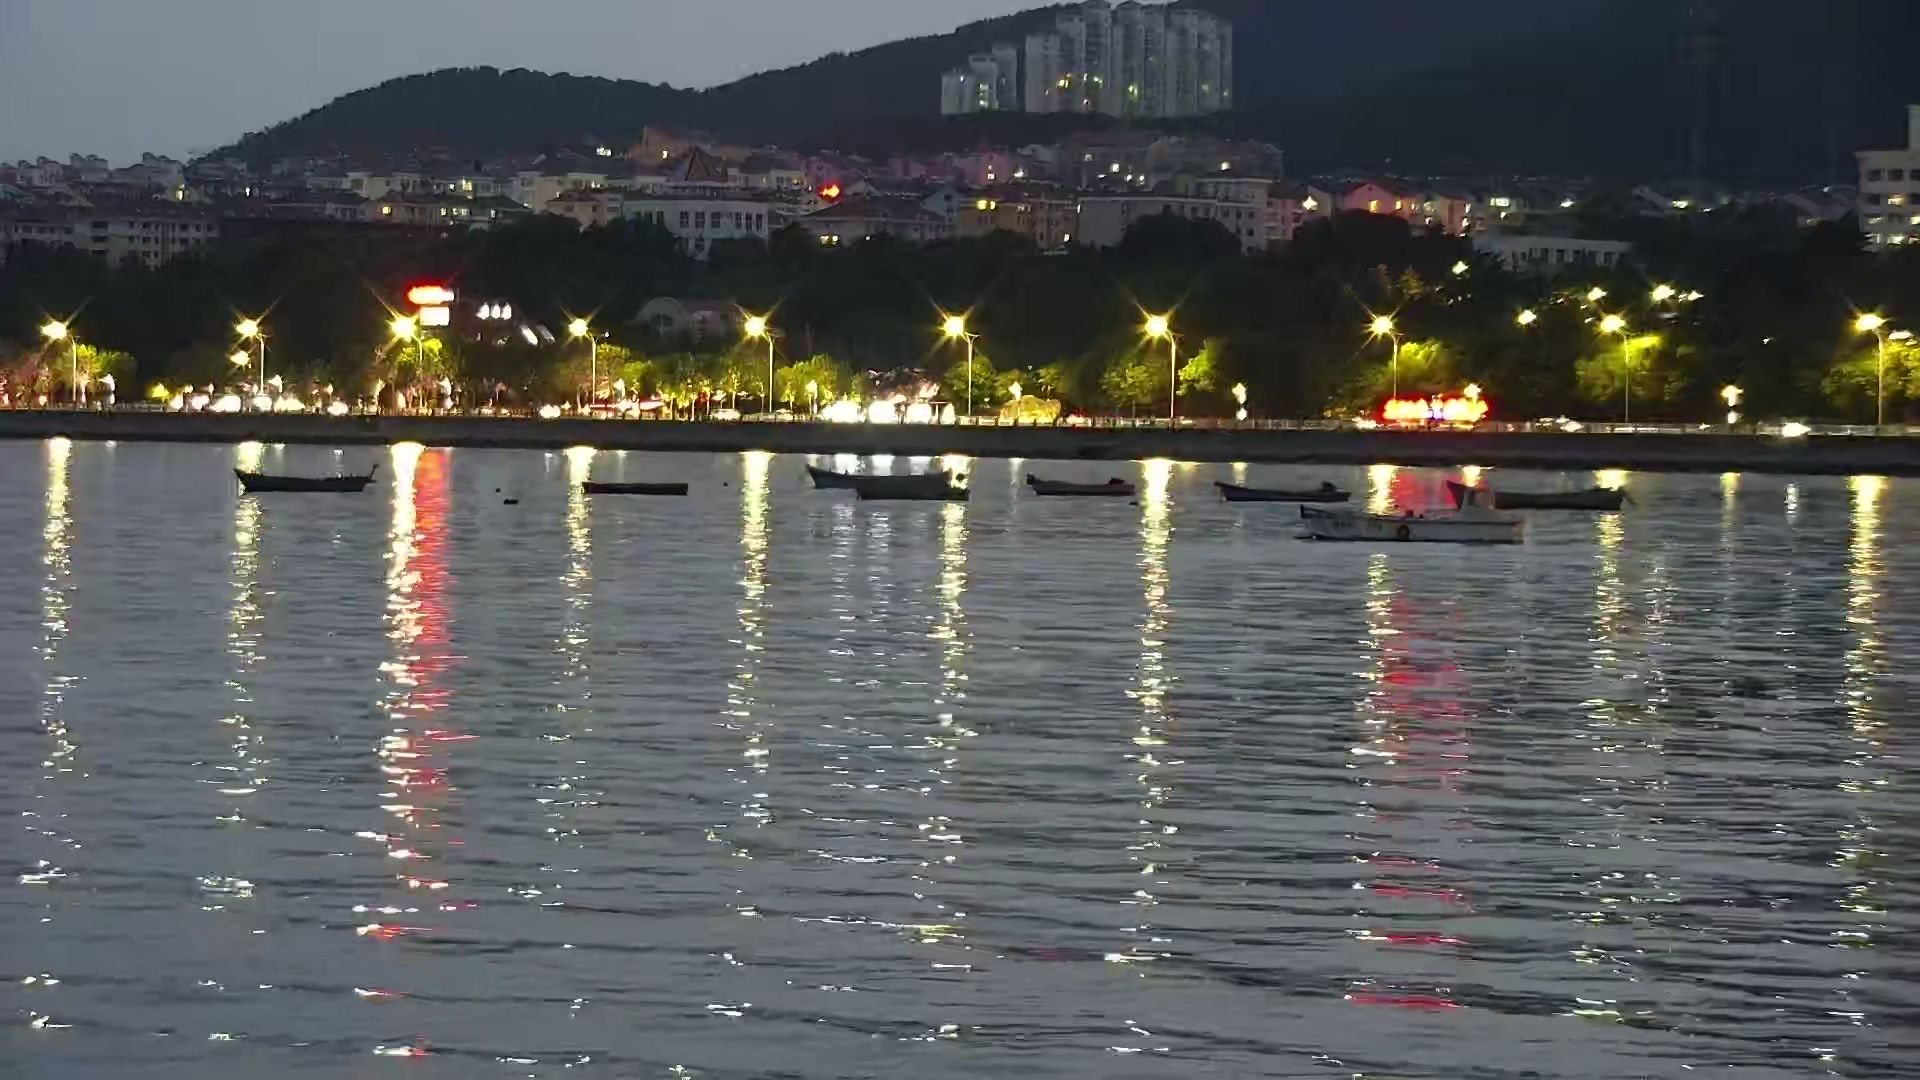boat: (1295, 509, 1531, 545), (1456, 479, 1633, 520), (800, 465, 955, 498), (228, 462, 377, 495), (1022, 469, 1154, 506), (1218, 477, 1353, 509), (575, 476, 688, 502)
